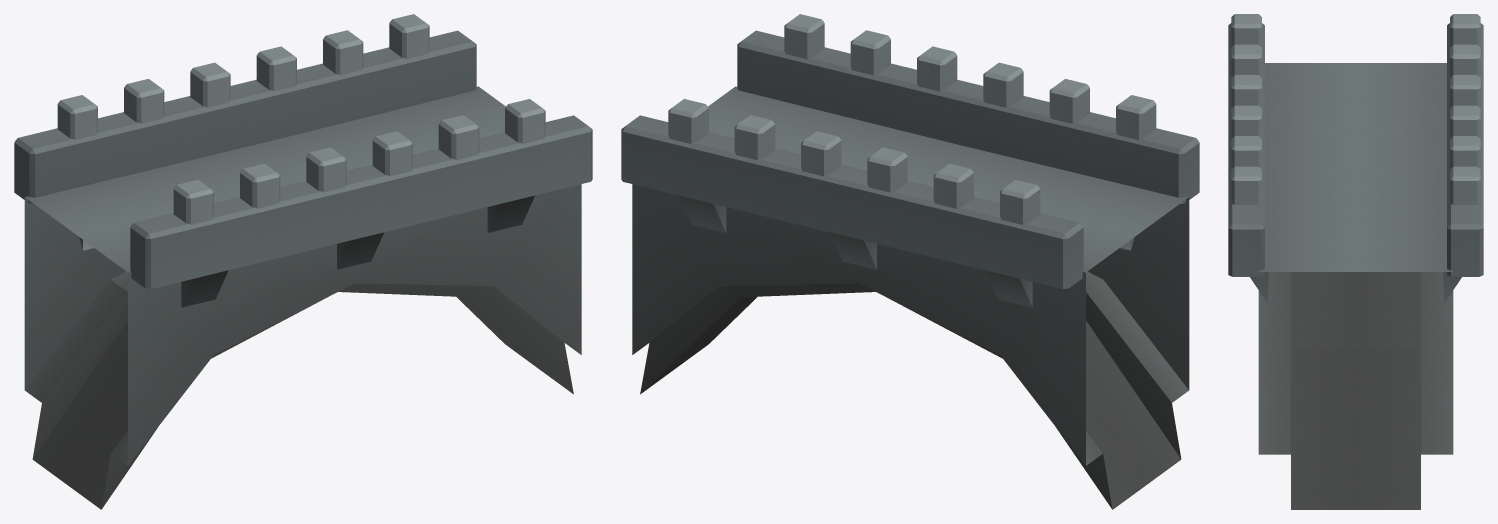
File: ZLP_Build_C_7.FBX
The picture shows the model from 3 angles, left to right: view 1: azimuth 30°, elevation 25°; view 2: azimuth 150°, elevation 25°; view 3: azimuth 270°, elevation 25°; orthographic projection. The views are drawn at different scales.
Parts seen in each view (by area): view 1: ZLP_Build_C_7; view 2: ZLP_Build_C_7; view 3: ZLP_Build_C_7.
Boxes of the visible parts, x1=… form: ZLP_Build_C_7: x1=14, y1=14, x2=592, y2=509; ZLP_Build_C_7: x1=621, y1=14, x2=1199, y2=509; ZLP_Build_C_7: x1=1228, y1=14, x2=1483, y2=509.
Size of the model in its own units: 1030 by 673 by 510.
